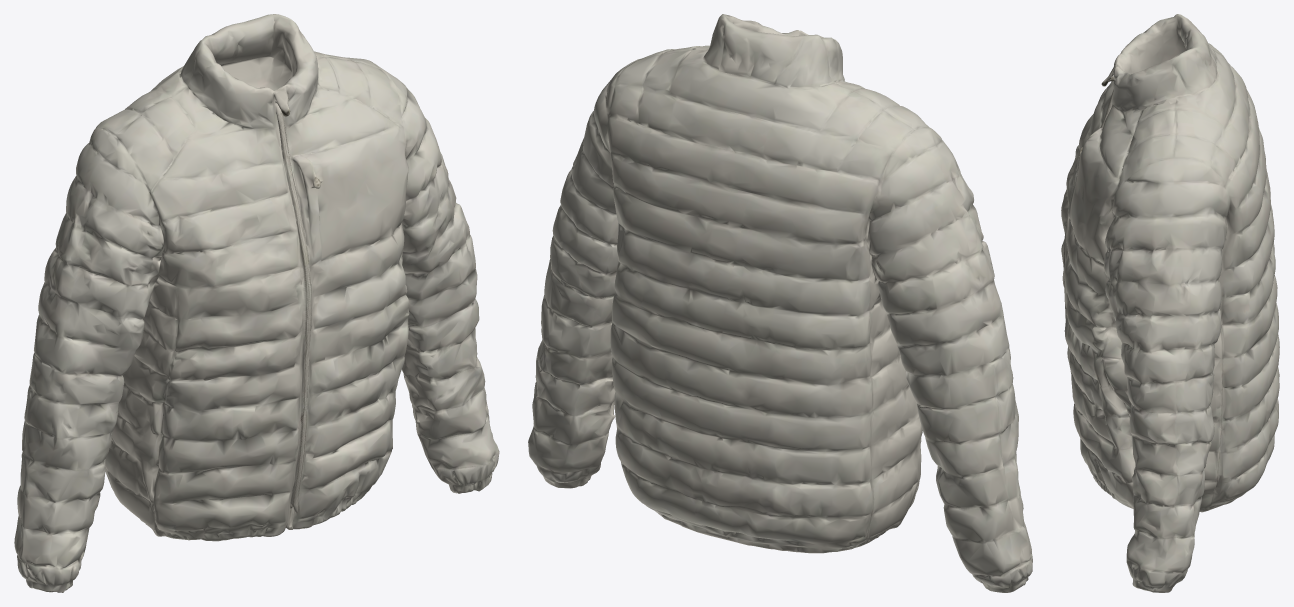
The picture shows the model from 3 angles, left to right: view 1: azimuth 30°, elevation 25°; view 2: azimuth 150°, elevation 25°; view 3: azimuth 270°, elevation 25°; orthographic projection. The views are drawn at different scales.
Visible parts, largest first — view 1: tripo_node_36bb461a-cb0c-4ecb-bf77-a85d0e8628d7; view 2: tripo_node_36bb461a-cb0c-4ecb-bf77-a85d0e8628d7; view 3: tripo_node_36bb461a-cb0c-4ecb-bf77-a85d0e8628d7.
Part boxes in pixels (left/top/right/bottom): tripo_node_36bb461a-cb0c-4ecb-bf77-a85d0e8628d7: left=14, top=14, right=499, bottom=592; tripo_node_36bb461a-cb0c-4ecb-bf77-a85d0e8628d7: left=528, top=14, right=1032, bottom=592; tripo_node_36bb461a-cb0c-4ecb-bf77-a85d0e8628d7: left=1061, top=14, right=1279, bottom=592.
Size of the model in its own units: 0.9908 by 0.9999 by 0.4276.
Materials: 1 (1 with a texture image).
